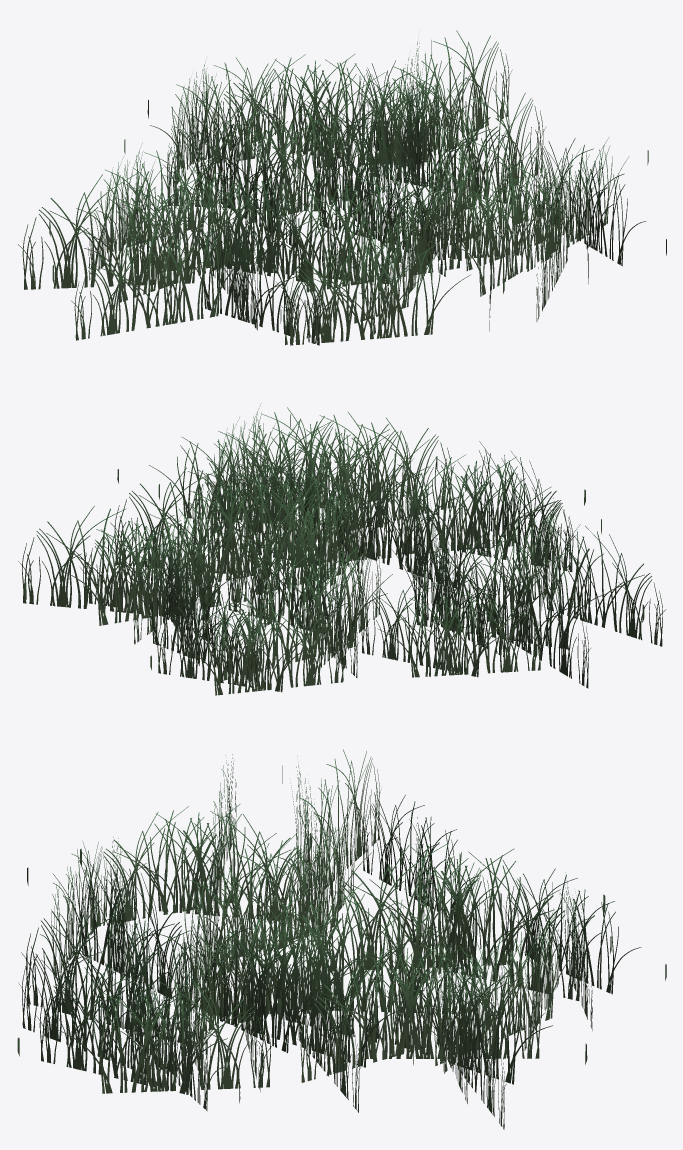
File: Grass.fbx
The picture shows the model from 3 angles, top to bottom: view 1: azimuth 30°, elevation 25°; view 2: azimuth 150°, elevation 25°; view 3: azimuth 270°, elevation 25°; orthographic projection. The views are drawn at different scales.
Visible parts, largest first — view 1: SM_Grass_Dynamic_01.mo; view 2: SM_Grass_Dynamic_01.mo; view 3: SM_Grass_Dynamic_01.mo.
Part boxes in pixels (box(x1,y1,x2,y2)): SM_Grass_Dynamic_01.mo: box(18, 30, 666, 345); SM_Grass_Dynamic_01.mo: box(18, 403, 665, 695); SM_Grass_Dynamic_01.mo: box(17, 749, 666, 1129).
Size of the model in its own units: 254 by 50.94 by 224.
